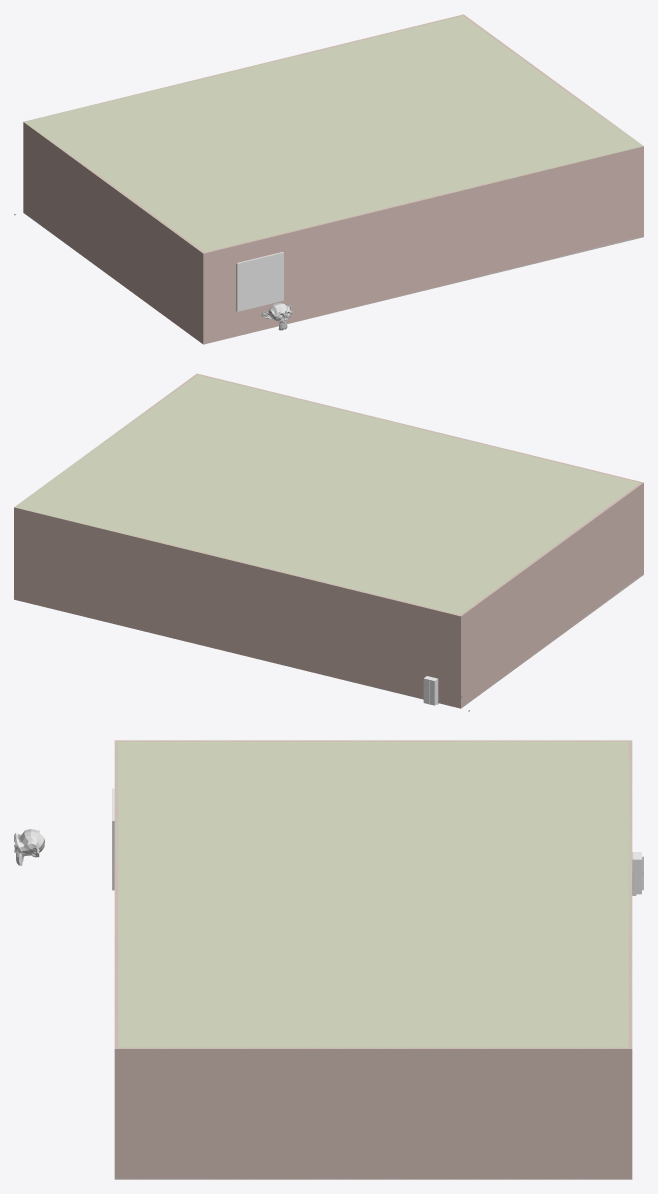
The model's file is Room.fbx.
3 renders of one model, top to bottom at view 1: azimuth 30°, elevation 25°; view 2: azimuth 150°, elevation 25°; view 3: azimuth 270°, elevation 25°, orthographic. The views are drawn at different scales.
Visible parts, largest first — view 1: Ceiling, Room, CTRL_Hole.003, Suzanne; view 2: Ceiling, Room; view 3: Ceiling, Room, Suzanne.
Boxes of the visible parts, x1=… form: Ceiling: x1=24, y1=14, x2=643, y2=252; Room: x1=23, y1=14, x2=643, y2=344; CTRL_Hole.003: x1=237, y1=252, x2=283, y2=311; Suzanne: x1=261, y1=303, x2=292, y2=330; Ceiling: x1=15, y1=374, x2=639, y2=616; Room: x1=14, y1=373, x2=643, y2=708; Ceiling: x1=114, y1=740, x2=632, y2=1048; Room: x1=114, y1=740, x2=632, y2=1179; Suzanne: x1=14, y1=829, x2=44, y2=865.
Bounding box in the file's own units: 4080 × 799 × 3451.
